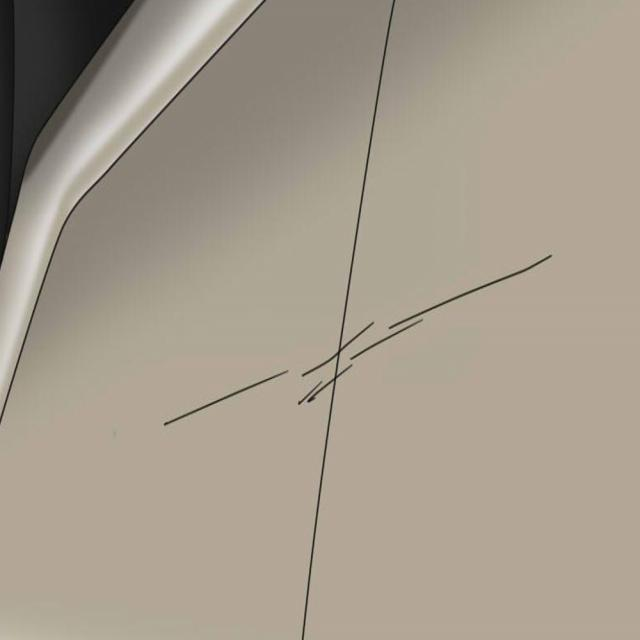scratch: (294, 242, 559, 412), (156, 357, 288, 432)
